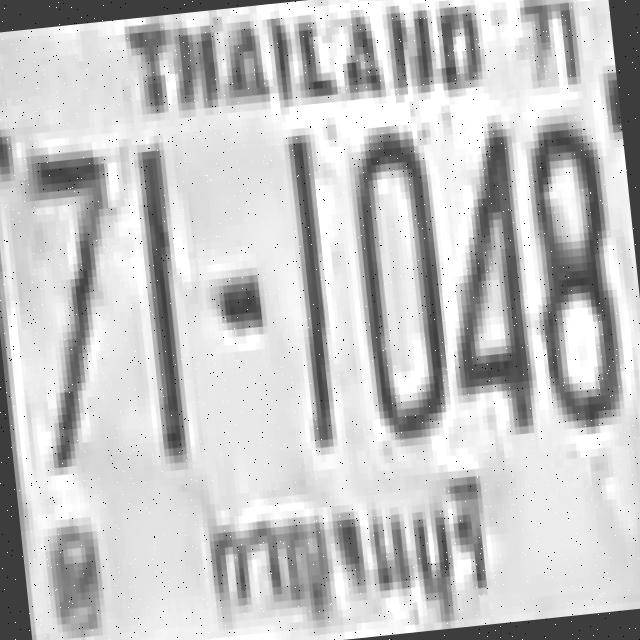0: (340, 119, 452, 438)
1: (128, 142, 190, 456), (280, 130, 340, 444)
4: (429, 118, 536, 428)
7: (18, 141, 132, 468), (20, 141, 121, 357)
8: (516, 112, 623, 423)
Kanchanaburi: (185, 452, 508, 640)
